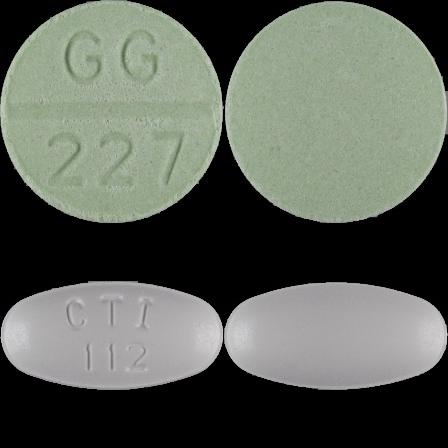53808-0626: (0, 0, 224, 224)
